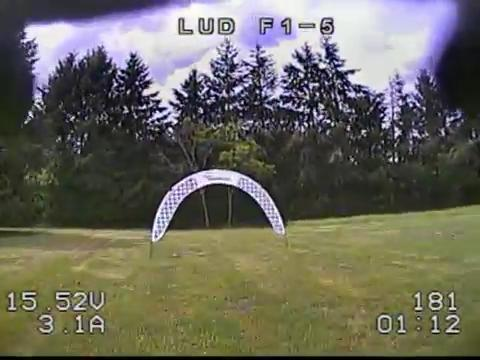gate: (150, 169, 287, 242)
